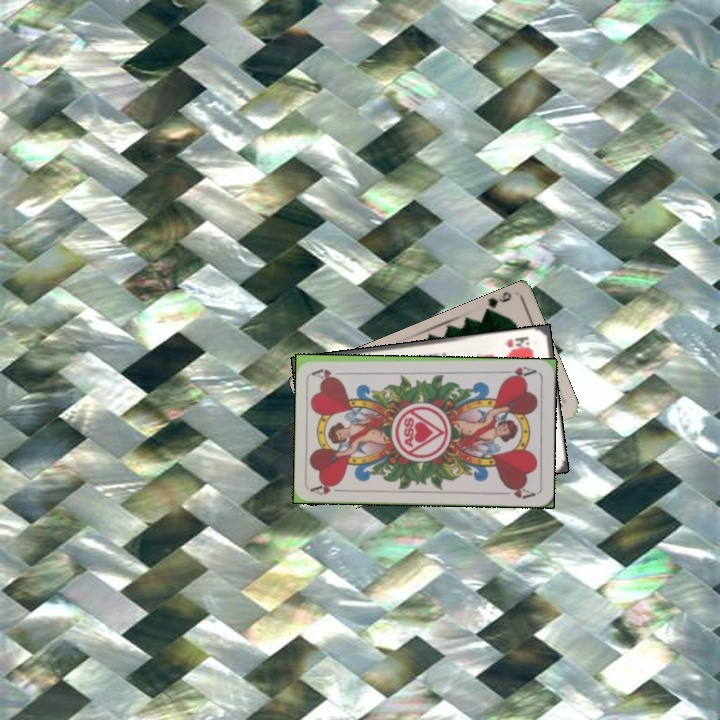G9: (480, 288, 514, 317)
HA: (308, 479, 349, 498), (499, 362, 539, 381)
HK: (500, 332, 532, 352)
